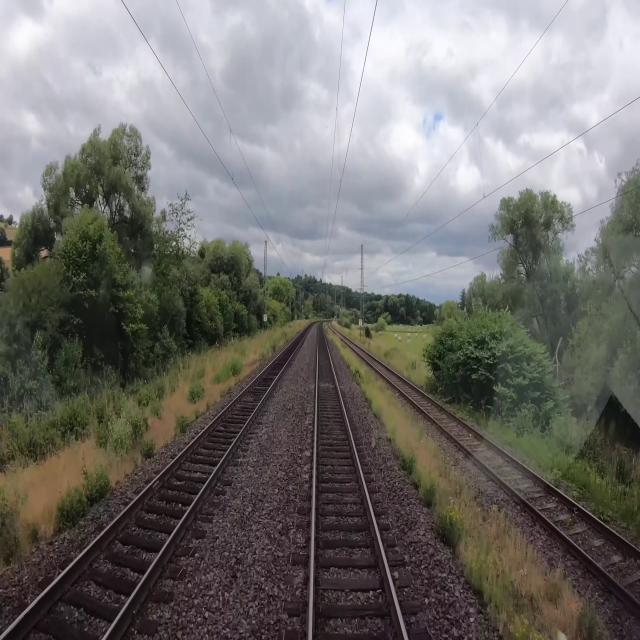Plant: (326, 331, 615, 639)
